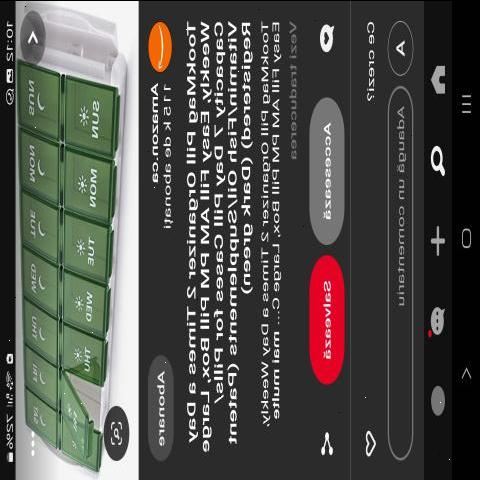PillBox: (14, 3, 135, 480)
